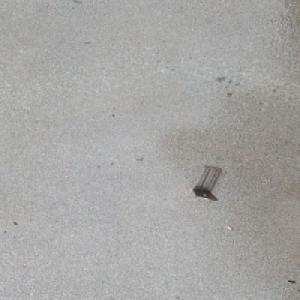MetalPart: (191, 165, 222, 200)
